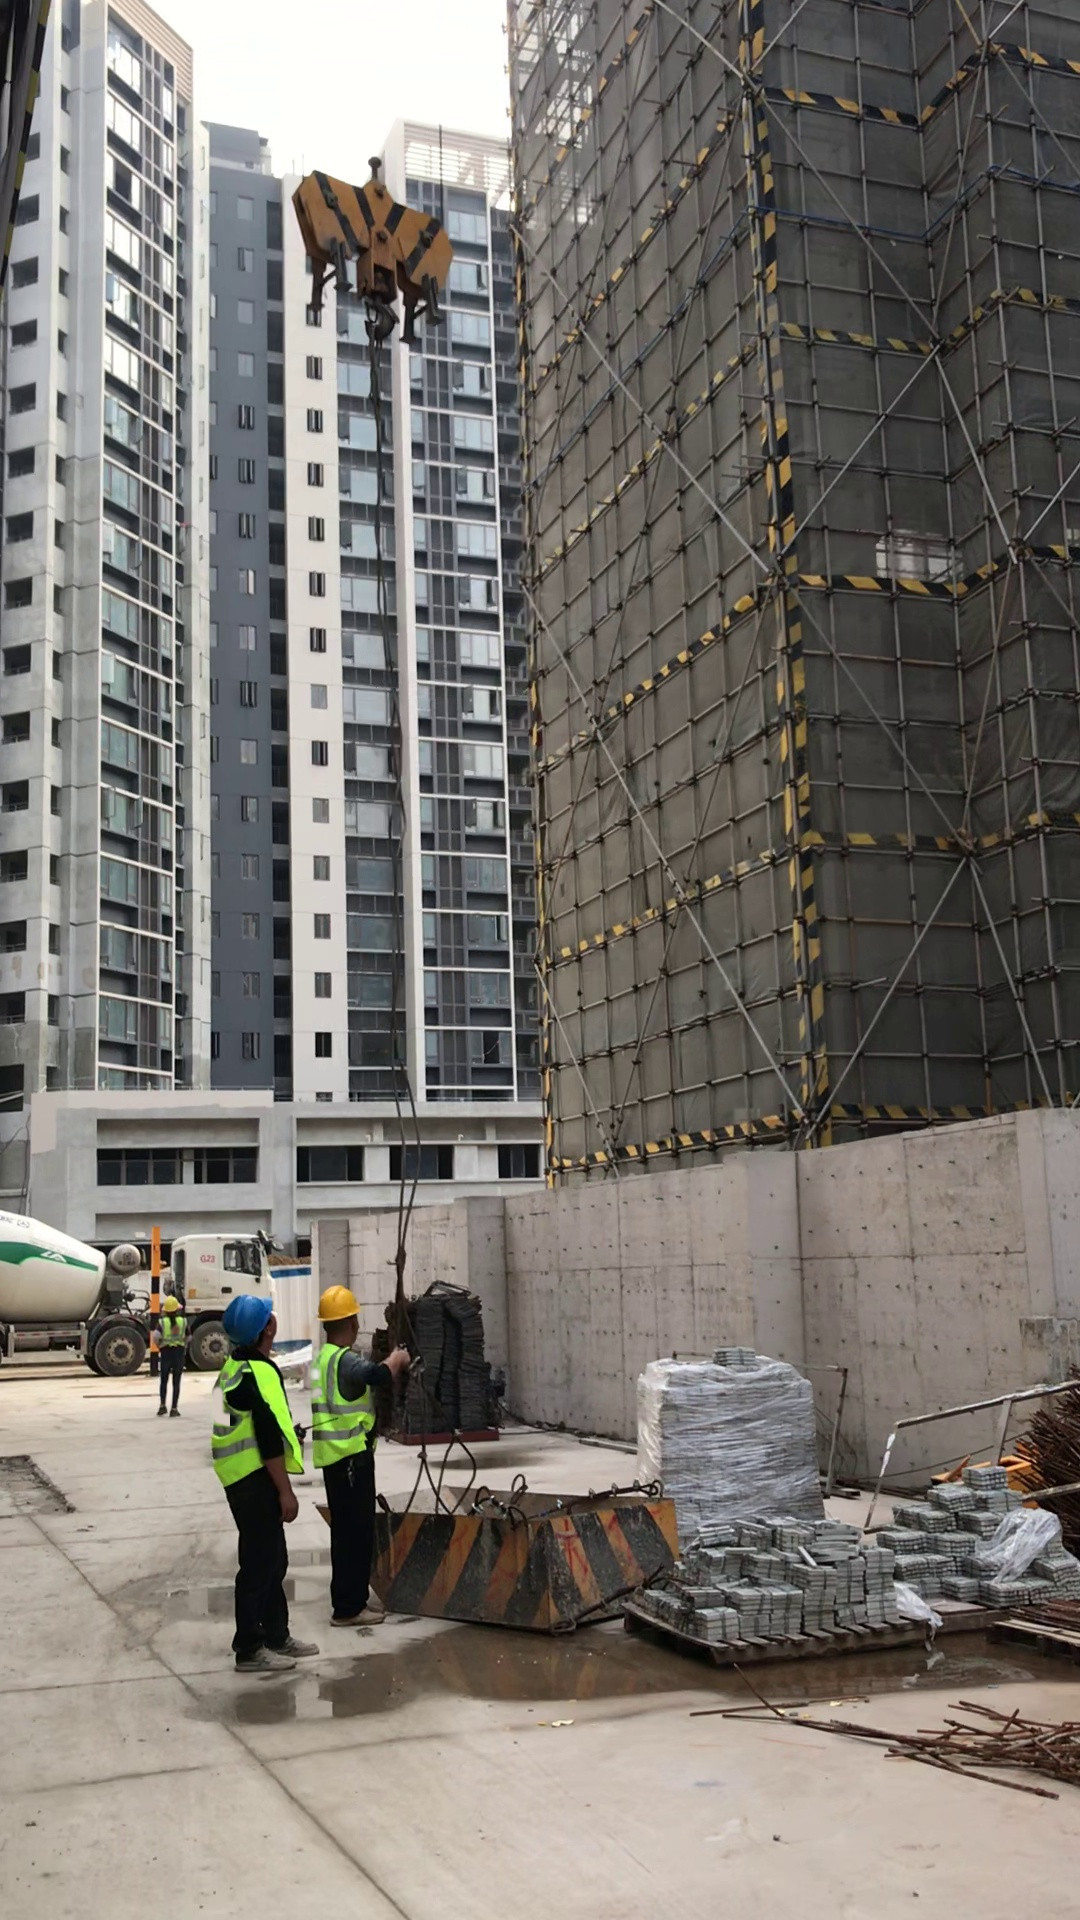helmet: (218, 1294, 276, 1345), (317, 1286, 361, 1322), (158, 1294, 181, 1312)
hook: (289, 136, 482, 336)
hopper: (374, 1476, 676, 1632)
person: (198, 1296, 328, 1690), (288, 1286, 414, 1627), (143, 1294, 192, 1420)
vest: (205, 1361, 303, 1490), (309, 1344, 381, 1461), (153, 1315, 185, 1351)
